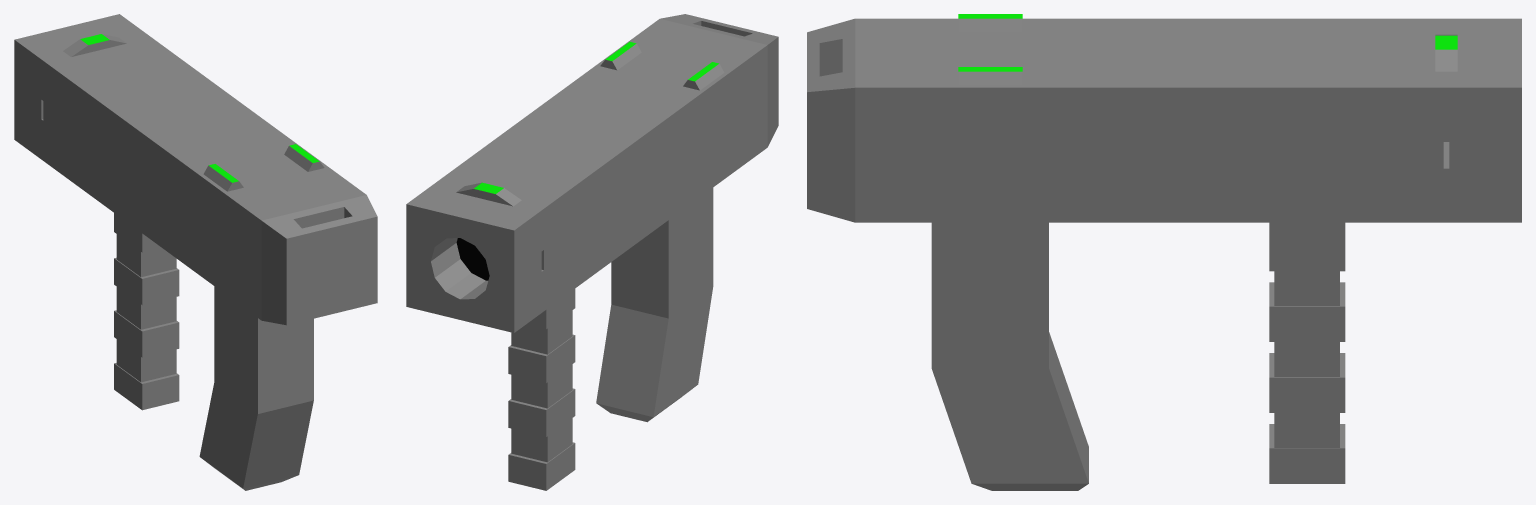
Rendered from NextGenRifle.fbx.
3 renders of one model, left to right at view 1: azimuth 30°, elevation 25°; view 2: azimuth 150°, elevation 25°; view 3: azimuth 270°, elevation 25°, orthographic. The views are drawn at different scales.
Parts seen in each view (by area): view 1: NextGenRifle; view 2: NextGenRifle; view 3: NextGenRifle.
Part boxes in pixels (x1,y1,x2,y2): NextGenRifle: [14, 14, 377, 490]; NextGenRifle: [406, 14, 778, 490]; NextGenRifle: [807, 14, 1521, 490].
Size of the model in its own units: 110 by 323 by 480.
